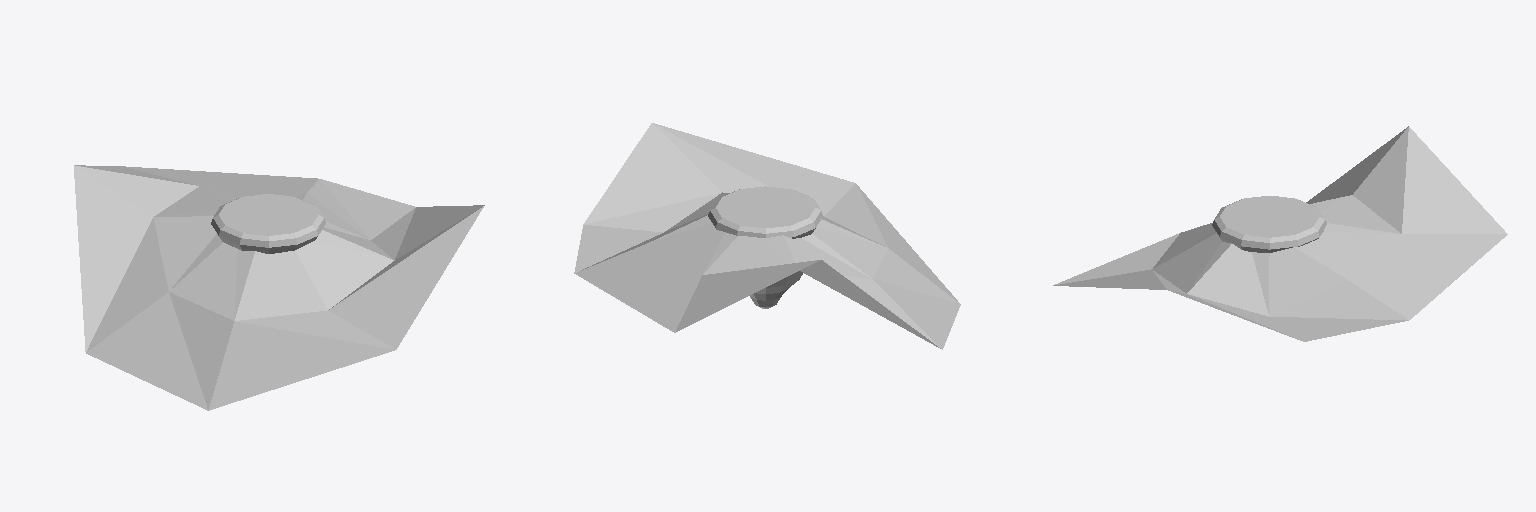
File: Bluete.obj
3 views of the same model, side by side, from view 1: azimuth 30°, elevation 25°; view 2: azimuth 150°, elevation 25°; view 3: azimuth 270°, elevation 25° (orthographic).
Parts seen in each view (by area): view 1: Circle.001_Circle.002; view 2: Circle.001_Circle.002; view 3: Circle.001_Circle.002.
Part boxes in pixels (bbox=[...]): Circle.001_Circle.002: bbox=[74, 165, 484, 410]; Circle.001_Circle.002: bbox=[574, 123, 960, 349]; Circle.001_Circle.002: bbox=[1053, 126, 1507, 341].
Bounding box in the file's own units: 0.7499 × 0.3004 × 0.8585.